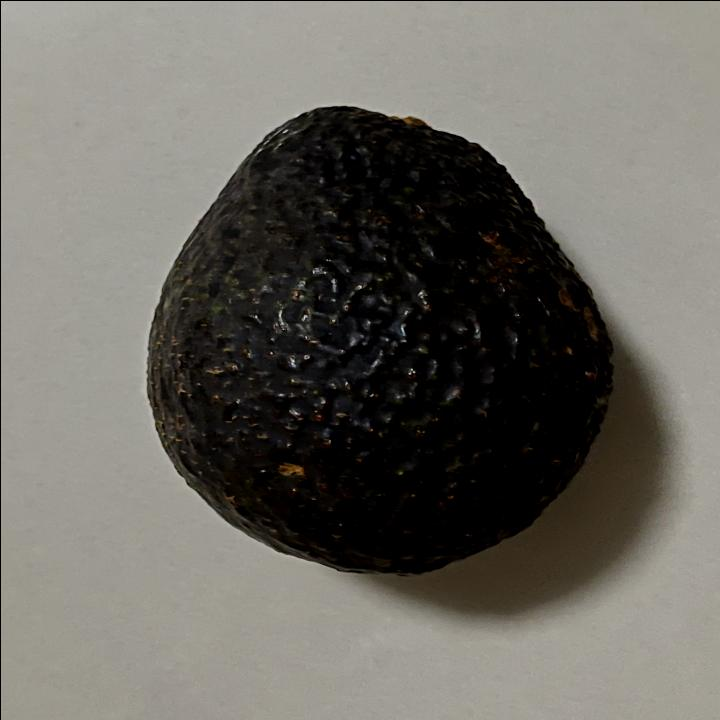Level2: (140, 97, 622, 578)
